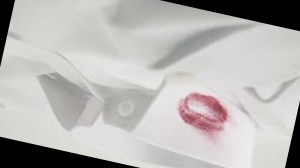lipstick: (172, 91, 229, 136)
